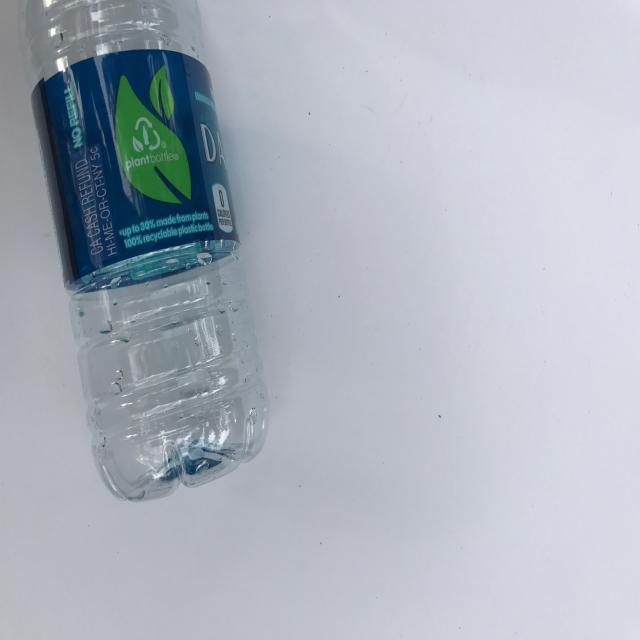plastic: (17, 1, 272, 501)
